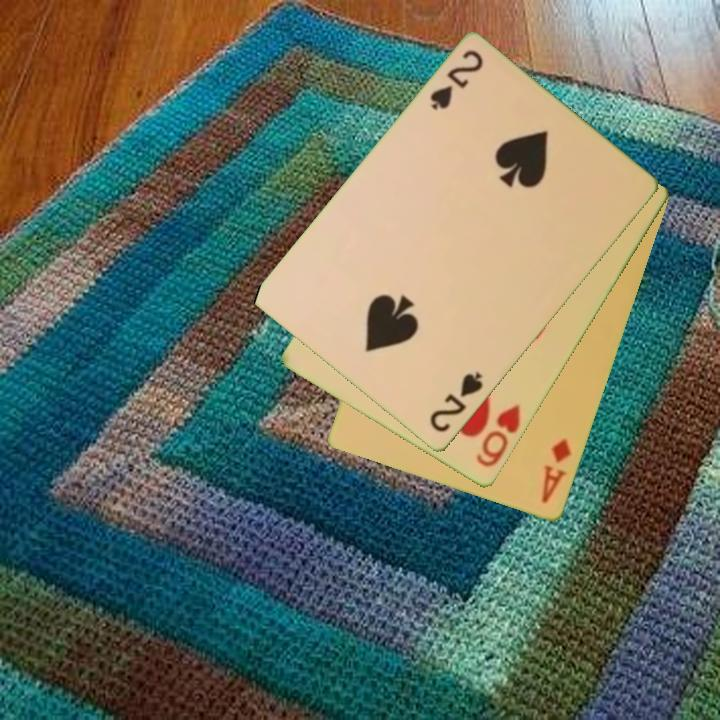2s: (426, 46, 487, 114), (426, 368, 486, 436)
6h: (472, 401, 524, 471)
Ad: (538, 435, 574, 507)
